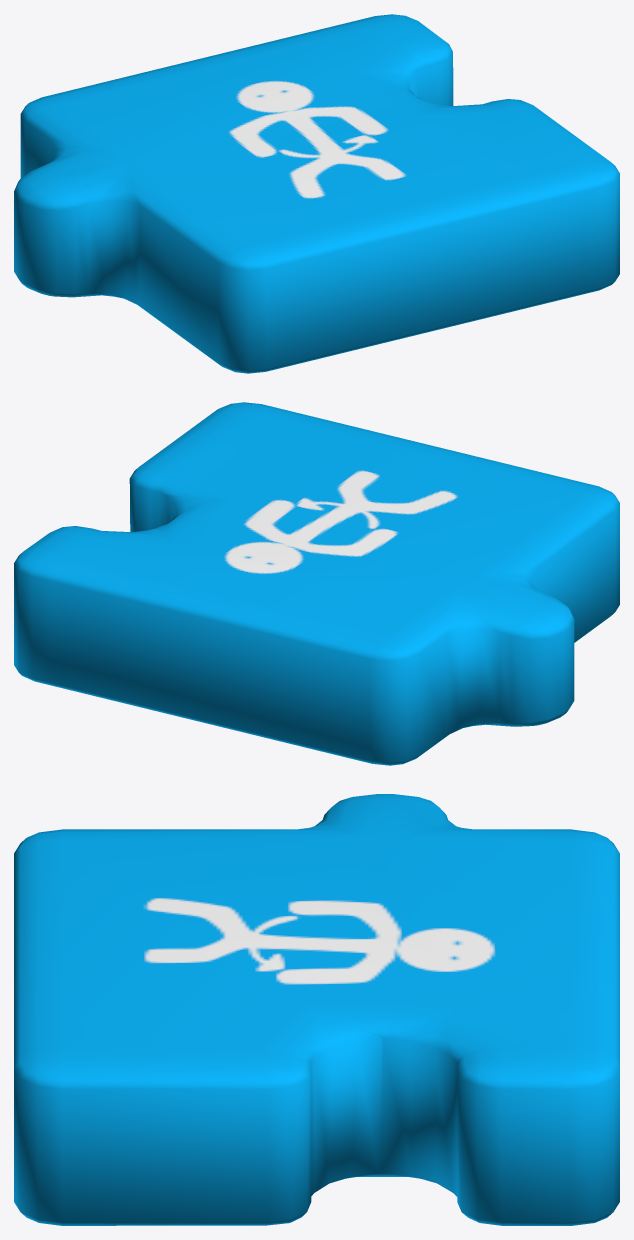
File: bloqueRotarIzq.fbx
3 views of the same model, one above another, from view 1: azimuth 30°, elevation 25°; view 2: azimuth 150°, elevation 25°; view 3: azimuth 270°, elevation 25° (orthographic). The views are drawn at different scales.
Visible parts, largest first — view 1: BloqueRotarIzq; view 2: BloqueRotarIzq; view 3: BloqueRotarIzq.
Boxes of the visible parts, x1=… form: BloqueRotarIzq: x1=14, y1=14, x2=619, y2=373; BloqueRotarIzq: x1=14, y1=402, x2=619, y2=765; BloqueRotarIzq: x1=14, y1=794, x2=619, y2=1225.
Size of the model in its own units: 238 by 59.47 by 200.
